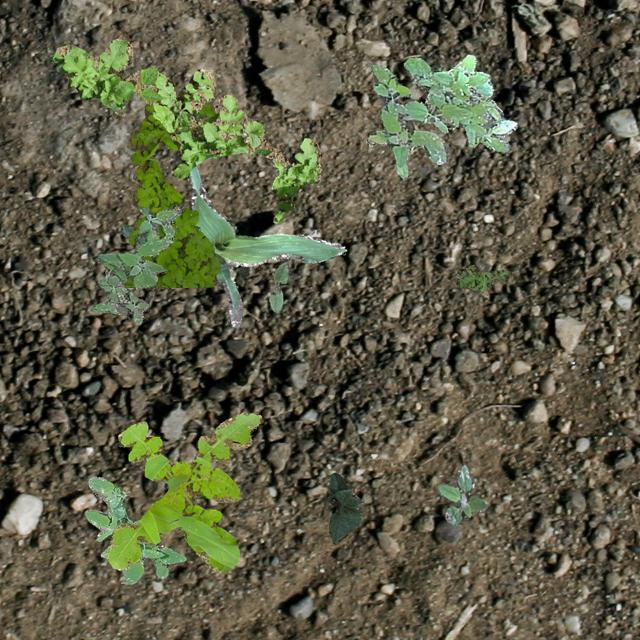crop: (122, 166, 346, 327), (328, 472, 362, 542), (268, 262, 288, 312)
weed: (51, 39, 320, 222), (106, 410, 260, 570), (364, 54, 516, 178), (122, 100, 220, 286), (84, 476, 185, 582), (92, 208, 180, 324), (436, 464, 486, 524), (454, 264, 512, 290)
